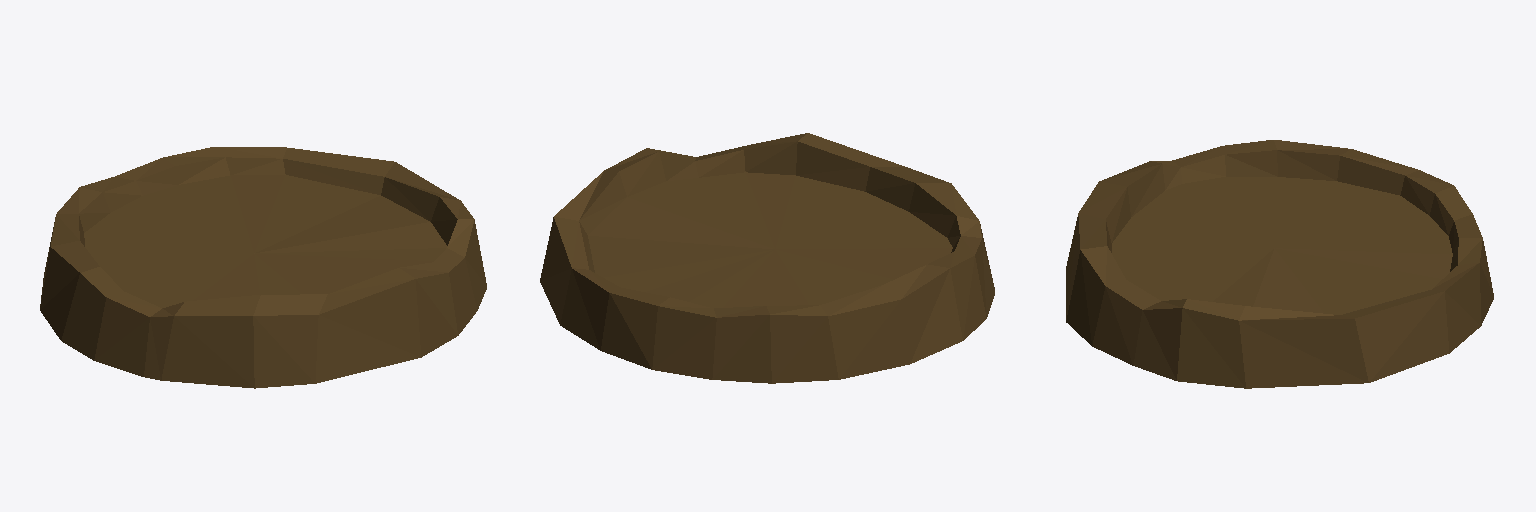
Rendered from rockRing.obj.
3 views of the same model, side by side, from view 1: azimuth 30°, elevation 25°; view 2: azimuth 150°, elevation 25°; view 3: azimuth 270°, elevation 25° (orthographic).
Parts seen in each view (by area): view 1: rockRing.obj; view 2: rockRing.obj; view 3: rockRing.obj.
Boxes of the visible parts, x1=… form: rockRing.obj: x1=40, y1=147, x2=486, y2=388; rockRing.obj: x1=540, y1=133, x2=994, y2=383; rockRing.obj: x1=1066, y1=140, x2=1493, y2=388.
Size of the model in its own units: 3.73 by 0.6881 by 3.55.